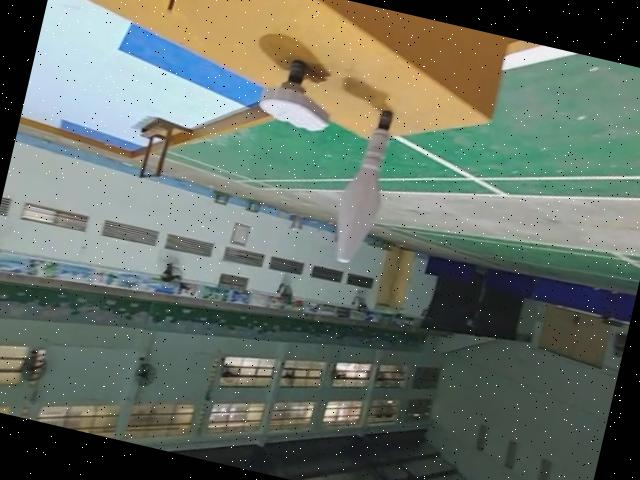Hand: (257, 55, 342, 139)
Sph: (322, 101, 403, 271)
